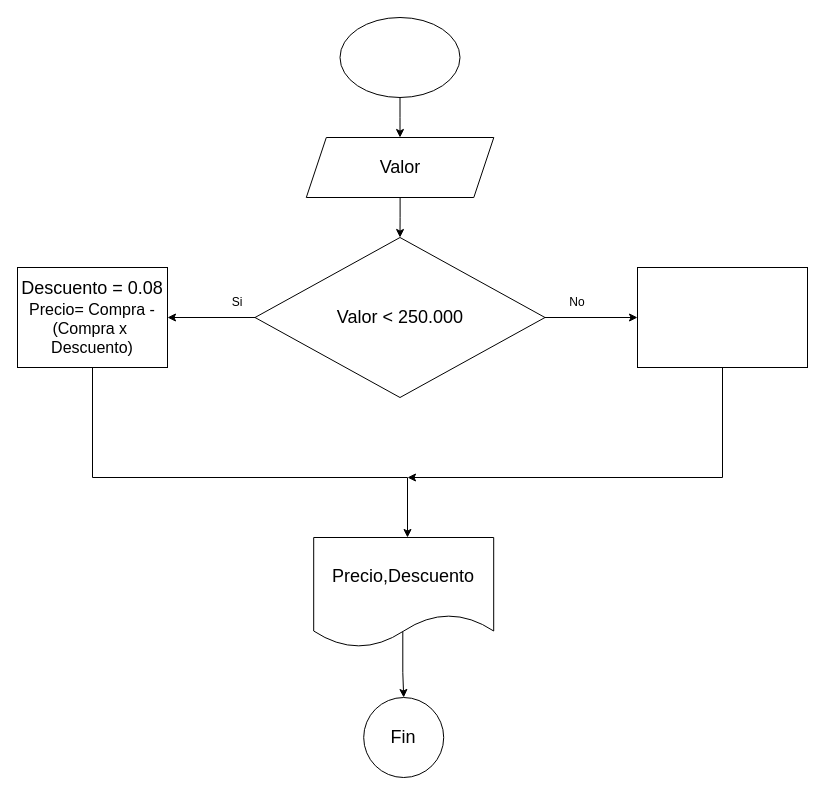
This 825x795 diagram has some shape labels left out. The centre of each missing label's shape, as x and y in pixels:
"Descuento = 0.15 Precio = Compra -(Compra x 0.15)" belongs at (722,317).
"Inicio" belongs at (399,57).
